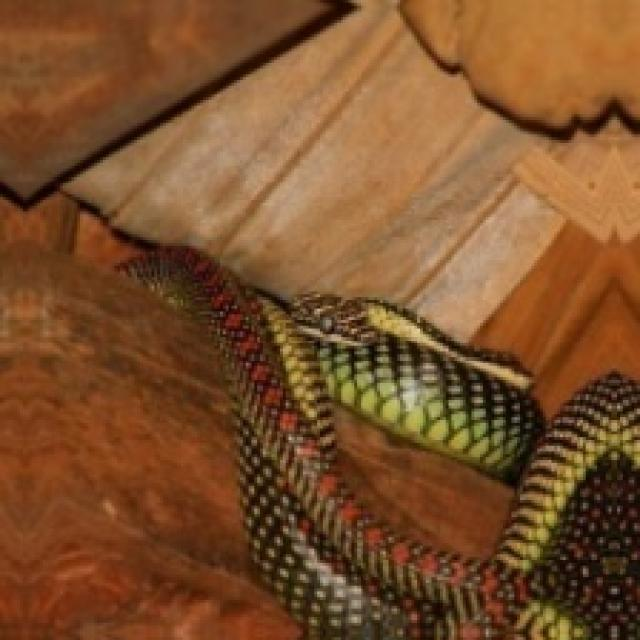paradise tree snake: (129, 249, 637, 637), (329, 400, 523, 560)
